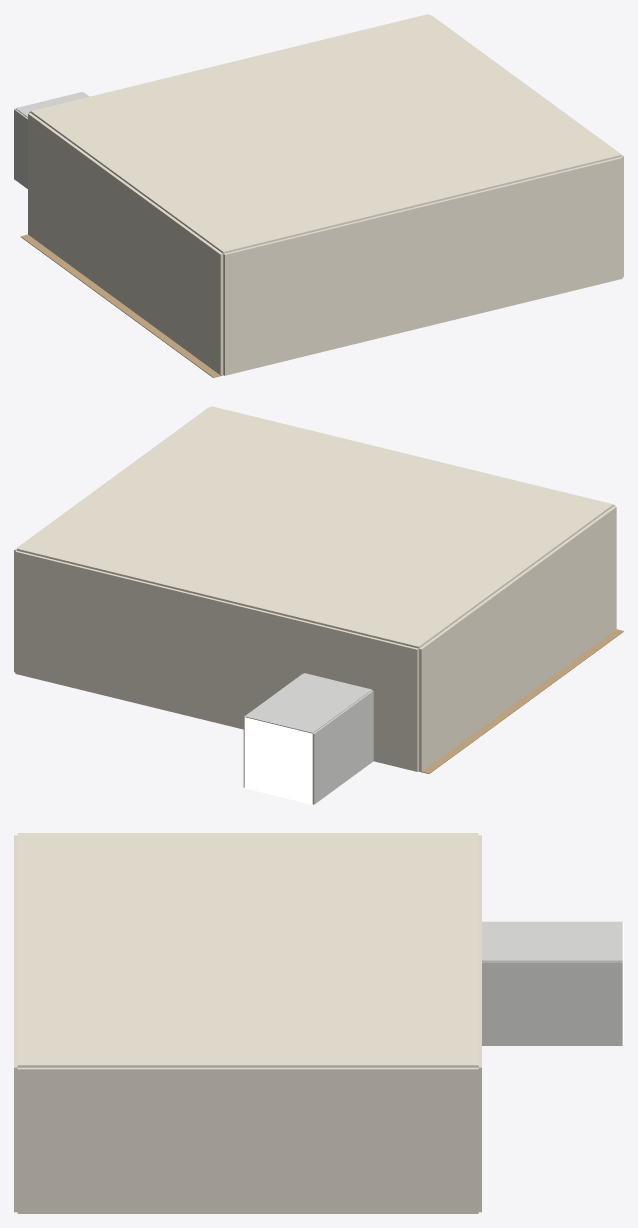
The model's file is story_classroom.glb.
3 views of the same model, one above another, from view 1: azimuth 30°, elevation 25°; view 2: azimuth 150°, elevation 25°; view 3: azimuth 270°, elevation 25° (orthographic). The views are drawn at different scales.
Parts seen in each view (by area): view 1: TC_Cine_plaster_warm, TC_Cine_plaster, TC_Cine_oak, Corridor_WallL, Corridor_Ceil; view 2: TC_Cine_plaster_warm, TC_Cine_plaster, Sky_Backdrop, Corridor_WallL, Corridor_Ceil, TC_Cine_oak; view 3: TC_Cine_plaster_warm, TC_Cine_plaster, Corridor_WallR, Corridor_Ceil.
Boxes of the visible parts, x1,y1,x2,y2 form: TC_Cine_plaster_warm: (30, 14, 621, 253); TC_Cine_plaster: (28, 15, 623, 375); TC_Cine_oak: (20, 234, 223, 377); Corridor_WallL: (14, 109, 27, 188); Corridor_Ceil: (15, 92, 88, 117); TC_Cine_plaster_warm: (17, 406, 613, 648); TC_Cine_plaster: (14, 407, 616, 771); Sky_Backdrop: (244, 717, 312, 804); Corridor_WallL: (312, 690, 373, 804); Corridor_Ceil: (245, 673, 371, 733); TC_Cine_oak: (418, 629, 623, 773); TC_Cine_plaster_warm: (17, 833, 478, 1067); TC_Cine_plaster: (14, 835, 481, 1213); Corridor_WallR: (482, 961, 622, 1045); Corridor_Ceil: (482, 921, 622, 961).
Bounding box in the file's own units: 16.01 × 4.6 × 17.2.
